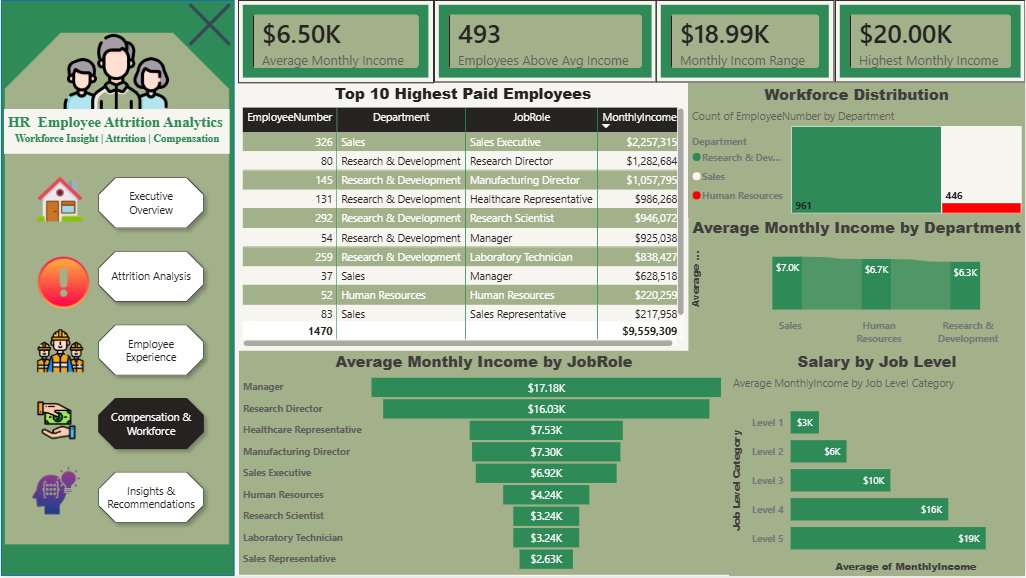

The dashboard page shown, as its layout file describes it:
{"tool":"powerbi","page":{"name":"Compensation & Workforce","canvas":[1280,720],"ordinal":3},"visuals":[{"type":"ribbonChart","fields":{"Category":["employee_attrition.Department"],"Y":["DAX Measures.Average Monthly Income"]},"box":[858.4,270.4,421.6,168],"z":0},{"type":"funnel","fields":{"Category":["employee_attrition.JobRole"],"Y":["DAX Measures.Average Monthly Income"]},"box":[297.5,437.5,612.5,281.2],"z":1000},{"type":"tableEx","title":"Top 10 Highest Paid Employees","fields":{"Values":["Count(employee_attrition.EmployeeNumber)","employee_attrition.Department","employee_attrition.JobRole","Sum(employee_attrition.MonthlyIncome)"]},"box":[295.6,102.5,562.7,336],"z":2000},{"type":"clusteredBarChart","title":"Salary by Job Level","fields":{"Category":["employee_attrition.Job Level Category"],"Y":["Avg(employee_attrition.MonthlyIncome)"]},"box":[910,437.5,370,283.8],"z":3000},{"type":"cardVisual","fields":{"Data":["DAX Measures.Highest Monthly Income"]},"box":[1041.9,0,238.1,103.2],"z":4000},{"type":"cardVisual","fields":{"Data":["DAX Measures.Average Monthly Income"]},"box":[296.5,0,244.7,103.7],"z":5000},{"type":"cardVisual","fields":{"Data":["DAX Measures.Salary Range"]},"box":[818.9,0,223,103.2],"z":6000},{"type":"cardVisual","fields":{"Data":["DAX Measures.Employees Above Avg Income"]},"box":[540.9,0,278,103.2],"z":7000},{"type":"textbox","box":[0,30.5,163.1,105.8],"z":8000},{"type":"shape","box":[0,0,291.8,719.8],"z":9000},{"type":"shape","box":[4.1,39.9,282.2,641.4],"z":10000},{"type":"actionButton","title":"Overview","box":[39.4,215,78.9,67.4],"z":11000},{"type":"actionButton","title":"Overview","box":[34.4,577.7,77.6,71.3],"z":12000},{"type":"actionButton","title":"Overview","box":[39.4,496.2,68.7,58.5],"z":13000},{"type":"actionButton","title":"Overview","box":[39.4,403.3,76.3,68.7],"z":14000},{"type":"actionButton","title":"Overview","box":[39.4,315.5,78.9,76.3],"z":15000},{"type":"pageNavigator","box":[112,212.5,150.1,450.4],"z":16000},{"type":"image","box":[4.1,39.9,282.2,100.5],"z":17000},{"type":"image","box":[231.2,4.1,60.6,53.7],"z":19000},{"type":"treemap","title":"Workforce Distribution","fields":{"Group":["employee_attrition.Department"],"Values":["Count(employee_attrition.EmployeeNumber)"]},"box":[858.4,104.1,421.6,168],"z":20000},{"type":"textbox","box":[4.1,136.3,282.2,56.4],"z":21001}]}

Visuals, with their boxes in screenshot pixels (x1, y1, x2, y2), scaled from the page's 1280x720 canvas onto the 1026x578 screenshot:
ribbonChart - employee_attrition.Department x DAX Measures.Average Monthly Income: (688,217,1025,352)
funnel - employee_attrition.JobRole x DAX Measures.Average Monthly Income: (238,351,729,577)
"Top 10 Highest Paid Employees" tableEx: (237,82,688,352)
"Salary by Job Level" clusteredBarChart: (729,351,1025,577)
cardVisual - DAX Measures.Highest Monthly Income: (835,0,1025,83)
cardVisual - DAX Measures.Average Monthly Income: (238,0,434,83)
cardVisual - DAX Measures.Salary Range: (656,0,835,83)
cardVisual - DAX Measures.Employees Above Avg Income: (434,0,656,83)
textbox: (0,24,131,109)
shape: (0,0,234,577)
shape: (3,32,229,547)
"Overview" actionButton: (32,173,95,227)
"Overview" actionButton: (28,464,90,521)
"Overview" actionButton: (32,398,87,445)
"Overview" actionButton: (32,324,93,379)
"Overview" actionButton: (32,253,95,315)
pageNavigator: (90,171,210,532)
image: (3,32,229,113)
image: (185,3,234,46)
"Workforce Distribution" treemap: (688,84,1025,218)
textbox: (3,109,229,155)
